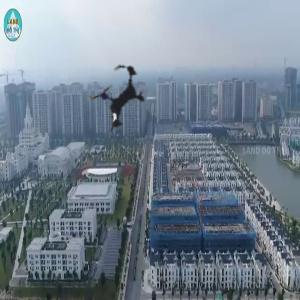drone: (63, 42, 176, 155)
